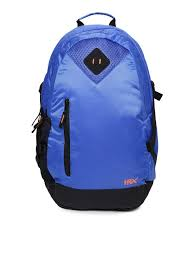backpack: (31, 11, 162, 211)
